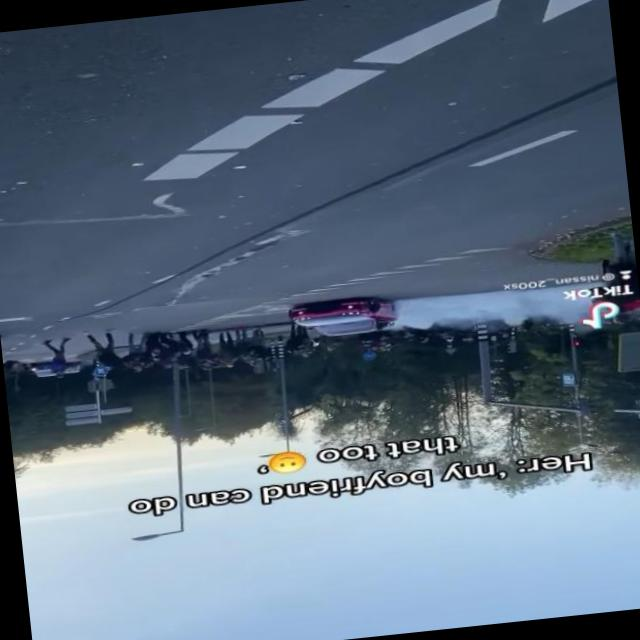car: (282, 290, 404, 342)
